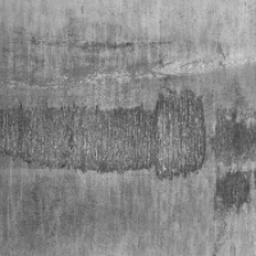Rolled pit: (0, 88, 206, 177), (86, 58, 246, 83), (213, 110, 256, 157), (216, 171, 250, 208), (71, 41, 172, 50)
